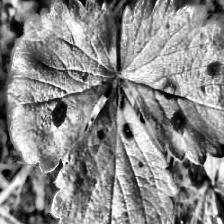Leaf Spot: (4, 0, 120, 174), (50, 77, 178, 224), (118, 0, 224, 166), (144, 146, 224, 224)
